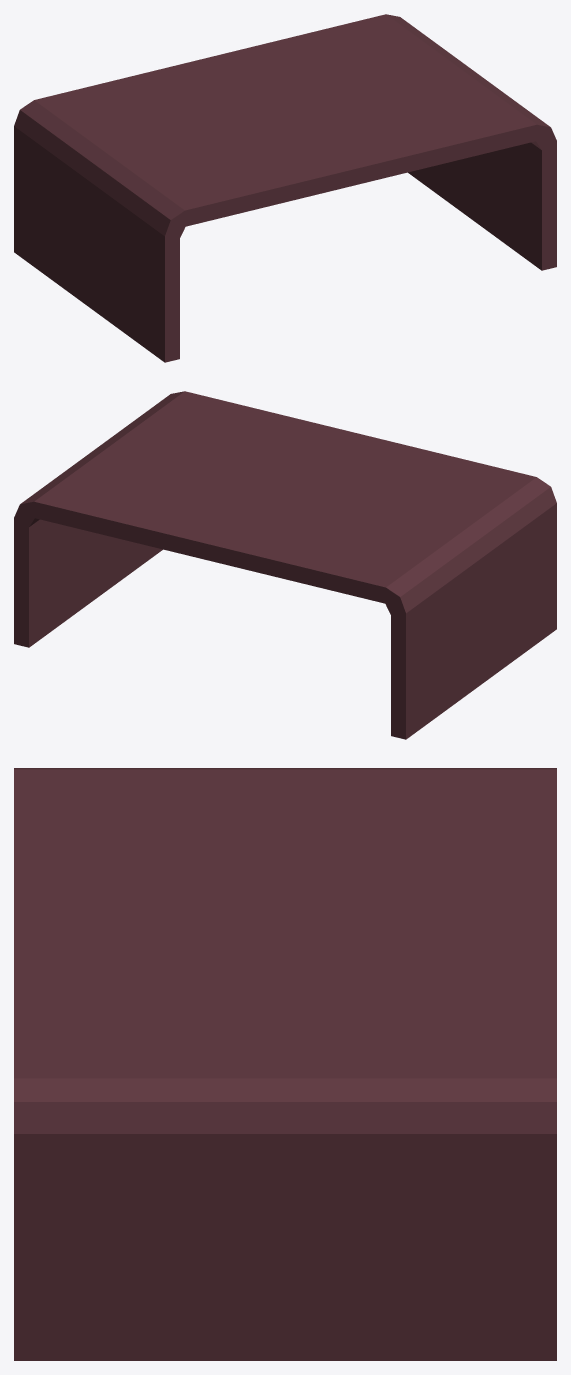
Rendered from stand-table-small.fbx.
3 renders of one model, top to bottom at view 1: azimuth 30°, elevation 25°; view 2: azimuth 150°, elevation 25°; view 3: azimuth 270°, elevation 25°, orthographic. The views are drawn at different scales.
Visible parts, largest first — view 1: stand-table-small; view 2: stand-table-small; view 3: stand-table-small.
Part boxes in pixels (box(x1,y1,x2,y2)): stand-table-small: box(14, 14, 556, 362); stand-table-small: box(14, 391, 556, 739); stand-table-small: box(14, 768, 556, 1360).
Bounding box in the file's own units: 0.39 × 0.14 × 0.26.
